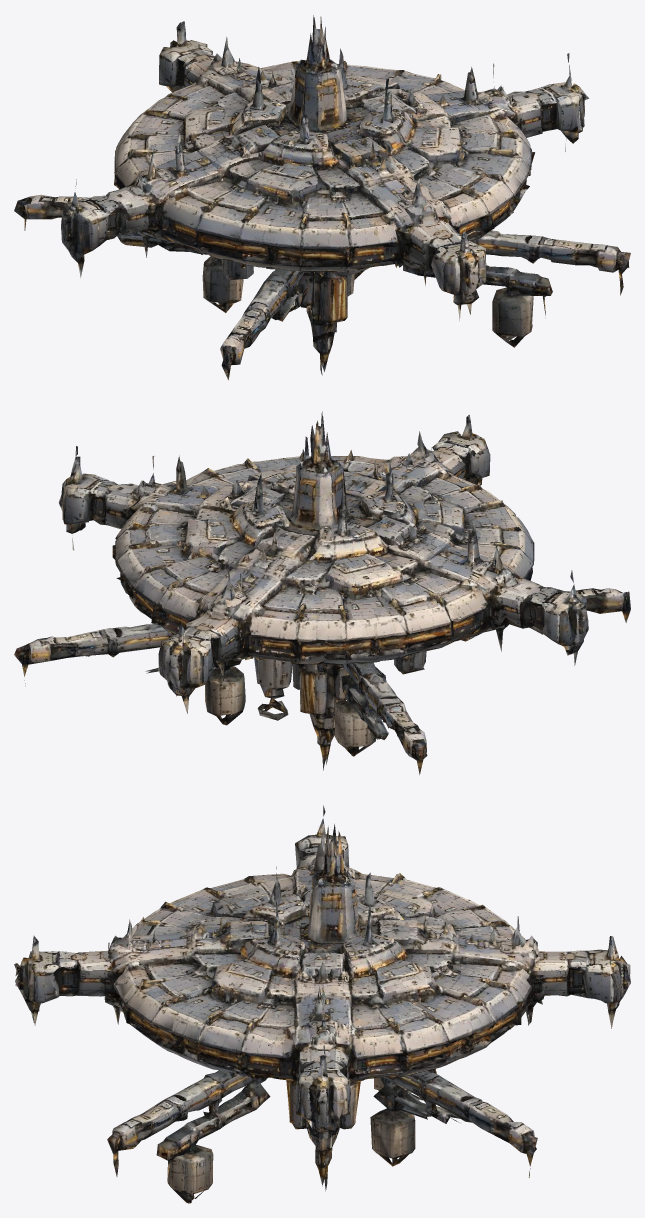
The model's file is st3d_sigma19_deepcut_lod1.glb.
3 renders of one model, top to bottom at view 1: azimuth 30°, elevation 25°; view 2: azimuth 150°, elevation 25°; view 3: azimuth 270°, elevation 25°, orthographic.
Parts seen in each view (by area): view 1: HOMELANCER_Station3D_Sigma19-DeepcutTransit_v1; view 2: HOMELANCER_Station3D_Sigma19-DeepcutTransit_v1; view 3: HOMELANCER_Station3D_Sigma19-DeepcutTransit_v1.
Boxes of the visible parts, left/top/right/bottom form: HOMELANCER_Station3D_Sigma19-DeepcutTransit_v1: left=14, top=15, right=630, bottom=380; HOMELANCER_Station3D_Sigma19-DeepcutTransit_v1: left=14, top=411, right=630, bottom=774; HOMELANCER_Station3D_Sigma19-DeepcutTransit_v1: left=14, top=805, right=630, bottom=1203.
Bounding box in the file's own units: 0.9827 × 0.6475 × 0.9854.
Materials: 1 (1 with a texture image).
